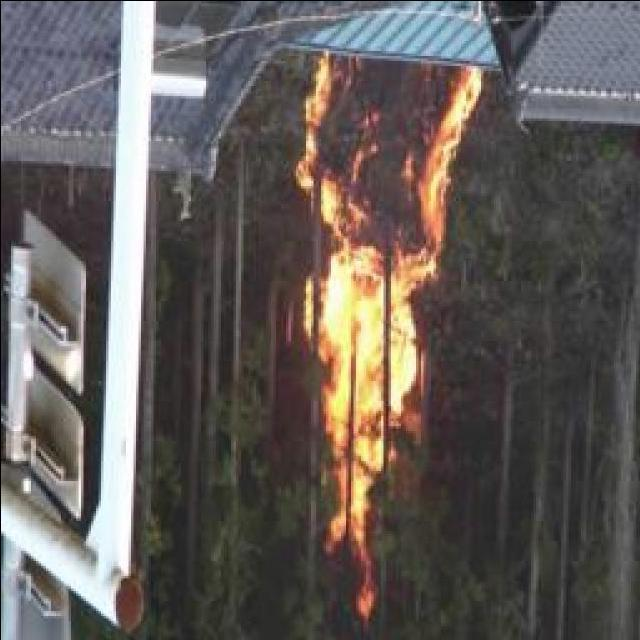Fire: (296, 53, 482, 622)
